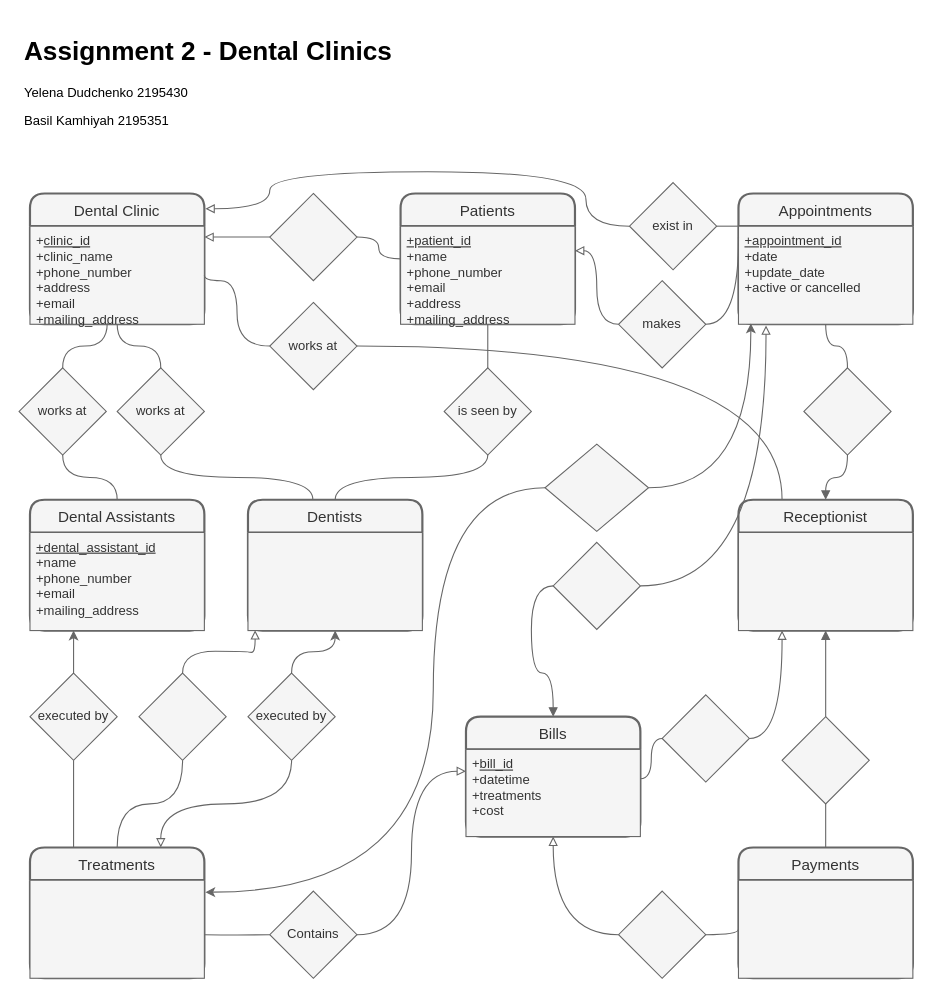
The diagram is 933 pixels wide and 997 high, and some of its shapes have lost their labels. Each missing label, with the centre of its shape:
"+ dentist_id +name +phone_number +email +mailing_address" belongs at point (334, 581).
"+ receptionist_id +name +phone_number +email +mailing_address" belongs at point (825, 581).
"+ treatment_id +treatment_type +duration +executed_by +assigned_by" belongs at point (116, 928).
"+payment_id +datetime +amount_paid +paid_by +card_number" belongs at point (825, 928).
"are paid" belongs at point (661, 934).
"assigns" belongs at point (182, 716).
"books" belongs at point (847, 411).
"covers" belongs at point (596, 585).
"created" belongs at point (705, 738).
"has" belongs at point (596, 487).
"processes" belongs at point (825, 760).
"registered with" belongs at point (313, 236).
